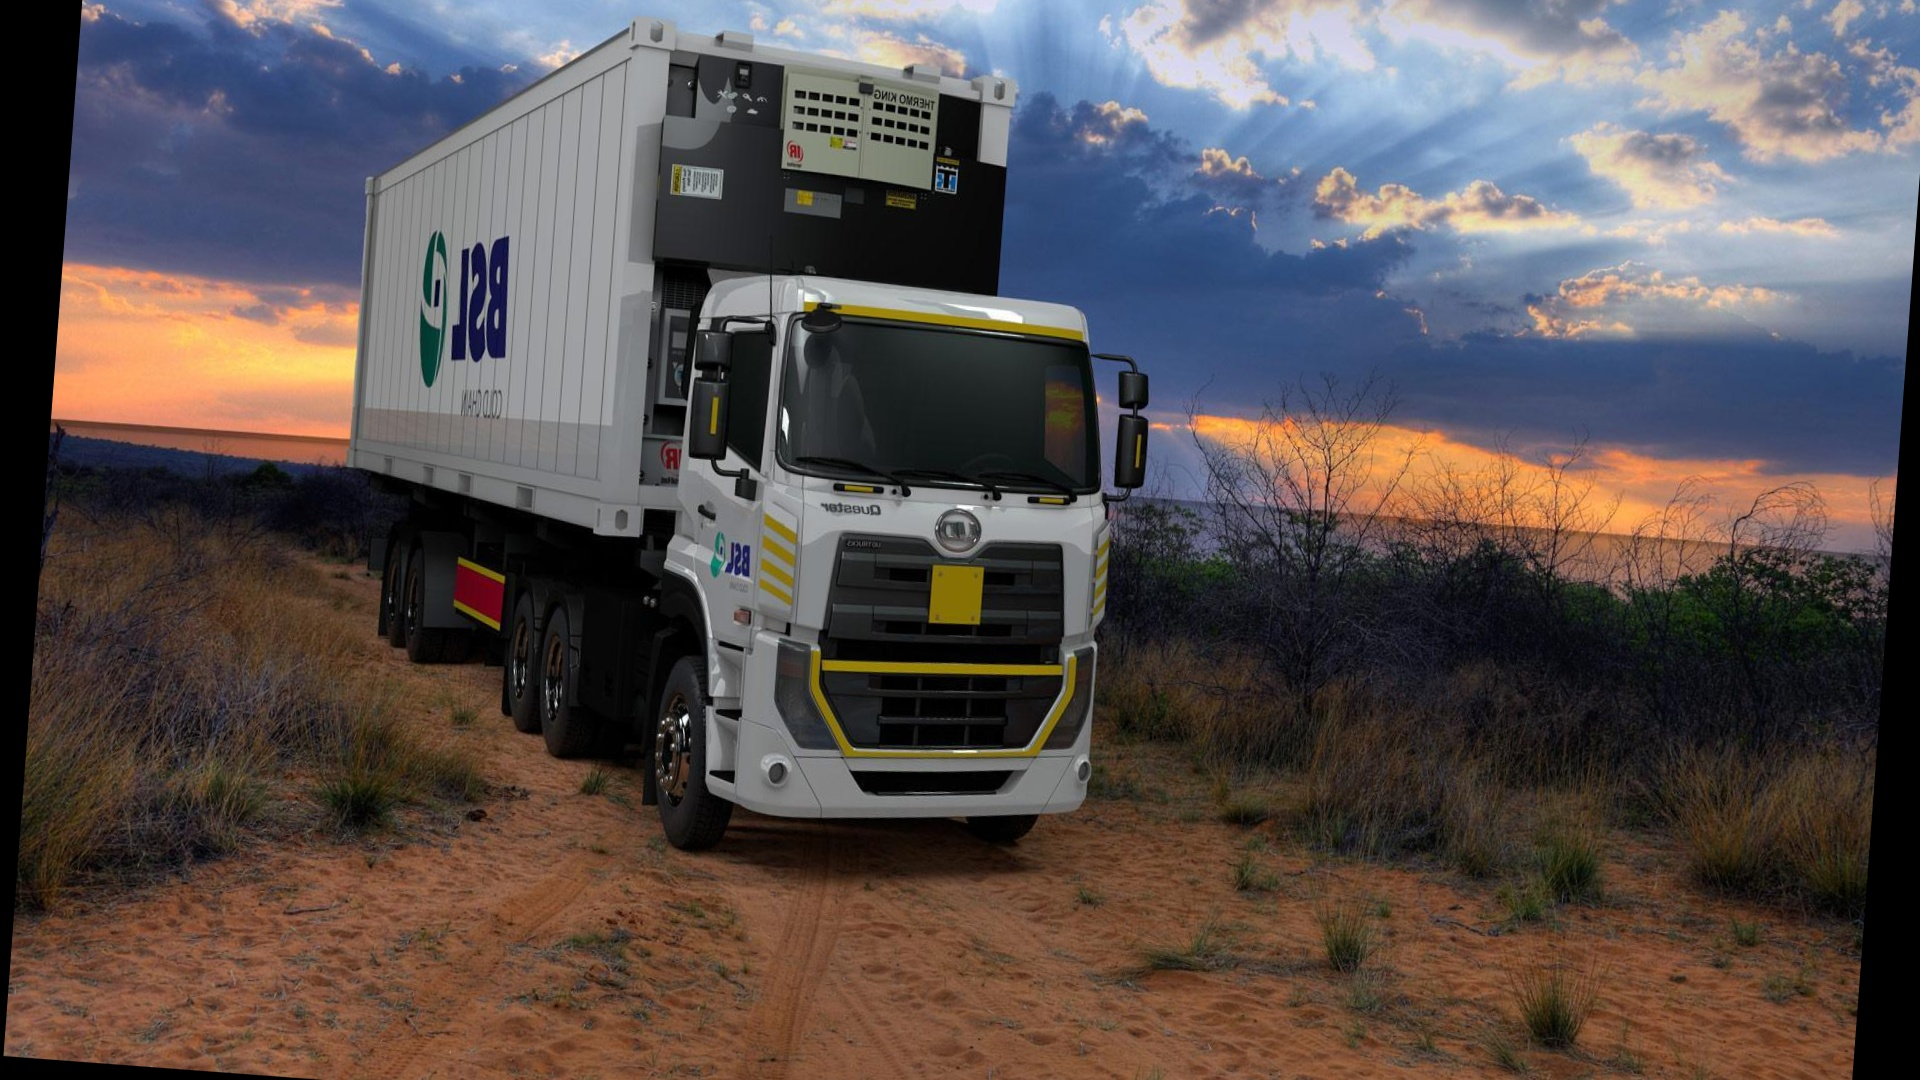truck: (322, 3, 1147, 889)
